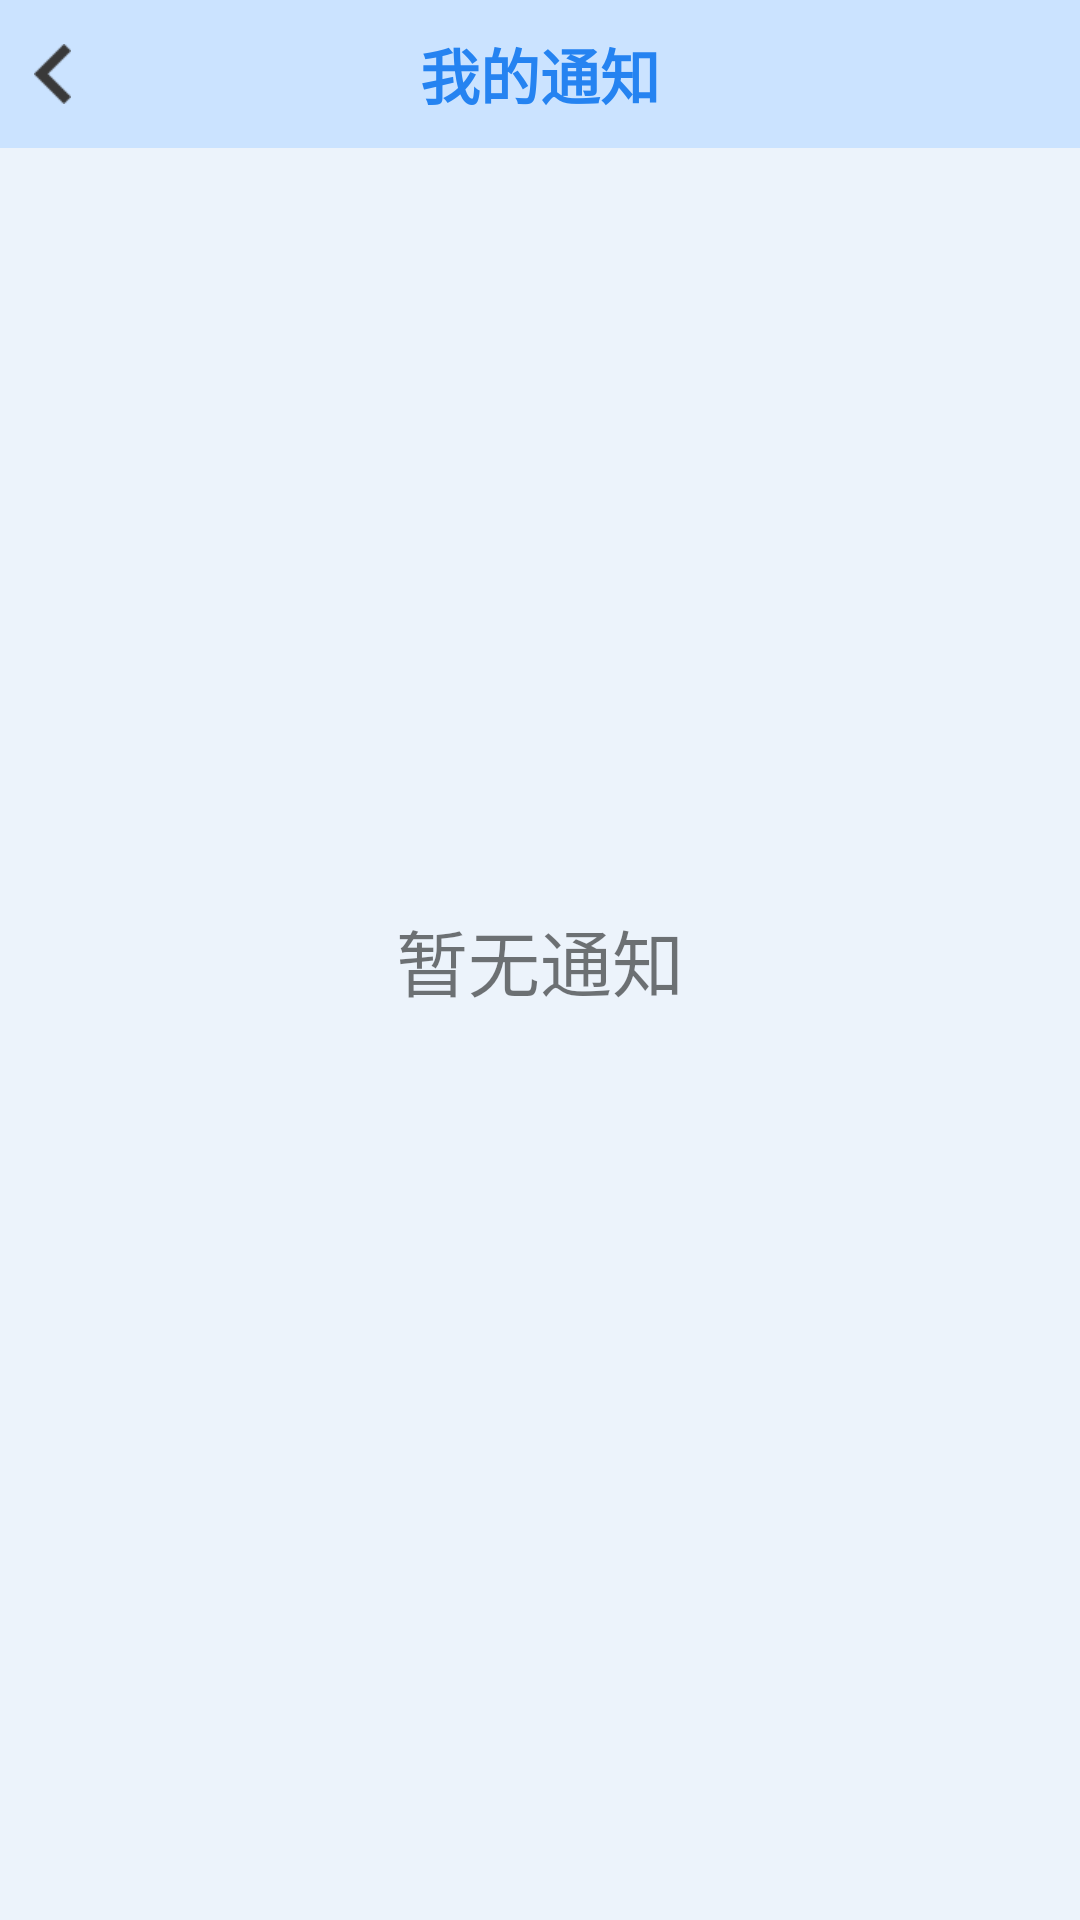

Screen size 1080w x 1920h. Icon name, then its center in pixels as [x,y]:
backicon: [52,74]
